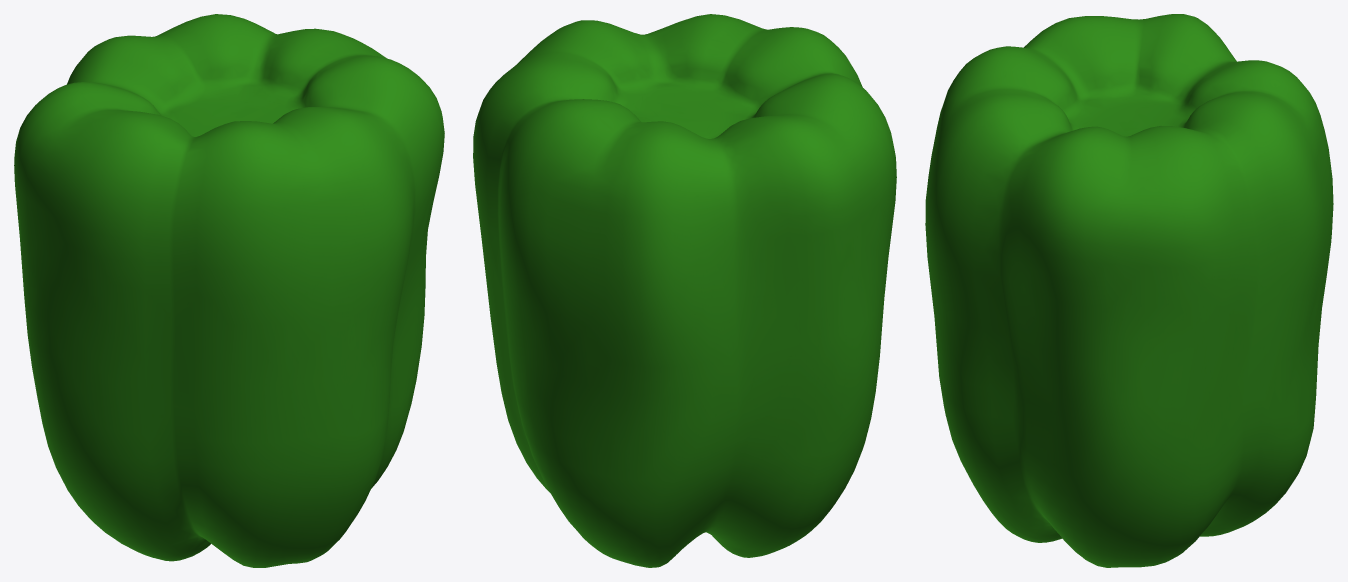
Rendered from pepper2.vtk.obj.
3 views of the same model, side by side, from view 1: azimuth 30°, elevation 25°; view 2: azimuth 150°, elevation 25°; view 3: azimuth 270°, elevation 25° (orthographic).
Visible parts, largest first — view 1: pepper.1; view 2: pepper.1; view 3: pepper.1.
Part boxes in pixels (x1,y1,x2,y2): pepper.1: (14, 14, 444, 567); pepper.1: (473, 14, 896, 567); pepper.1: (925, 14, 1333, 567).
Bounding box in the file's own units: 9.51 × 11.29 × 9.08.
1 material, 1 textured.
